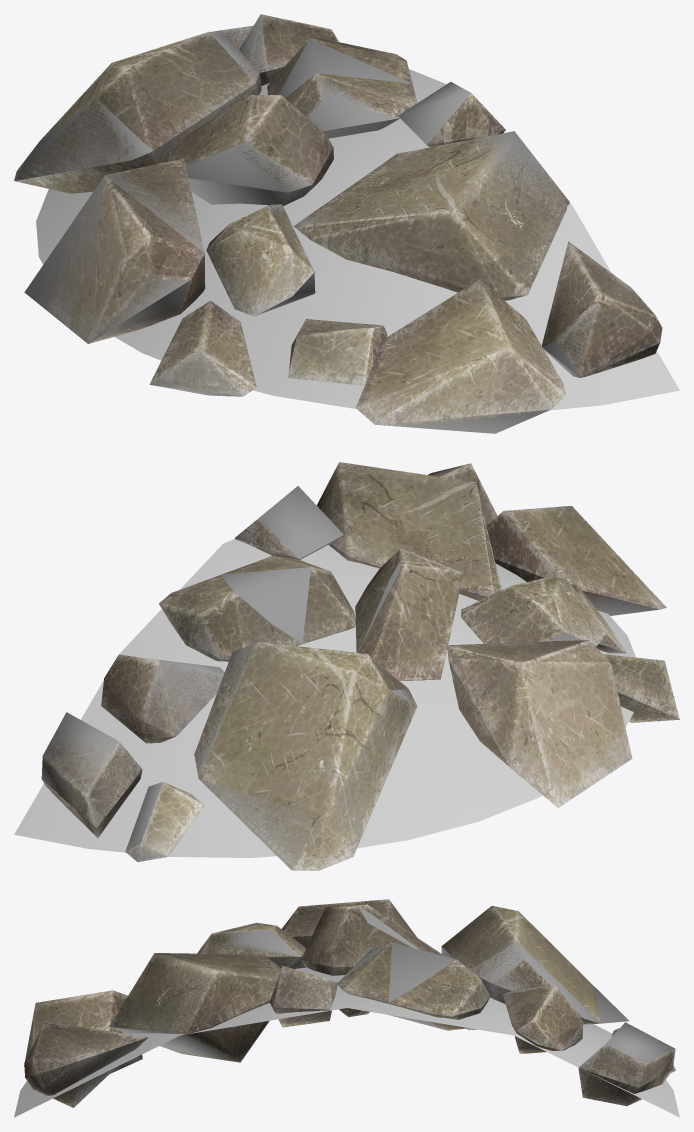
The model's file is z_debris_big_04.FBX.
The picture shows the model from 3 angles, top to bottom: view 1: azimuth 30°, elevation 25°; view 2: azimuth 150°, elevation 25°; view 3: azimuth 270°, elevation 25°; orthographic projection. The views are drawn at different scales.
Parts seen in each view (by area): view 1: debris_big_04_LOD0, debris_big_04_CLOD0, debris_big_m_02_LOD0; view 2: debris_big_04_LOD0, debris_big_m_02_LOD0, debris_big_04_CLOD0; view 3: debris_big_04_LOD0, debris_big_04_CLOD0, debris_big_m_02_LOD0.
Boxes of the visible parts, <box> form: debris_big_04_LOD0: <box>14,14,662,427</box>; debris_big_04_CLOD0: <box>14,14,599,433</box>; debris_big_m_02_LOD0: <box>36,69,679,410</box>; debris_big_04_LOD0: <box>42,462,679,870</box>; debris_big_m_02_LOD0: <box>14,539,635,857</box>; debris_big_04_CLOD0: <box>41,464,665,869</box>; debris_big_04_LOD0: <box>24,899,675,1107</box>; debris_big_04_CLOD0: <box>48,906,675,1107</box>; debris_big_m_02_LOD0: <box>14,967,679,1117</box>.
Size of what is drawn, in the model's own units: 112 by 58.63 by 210.
